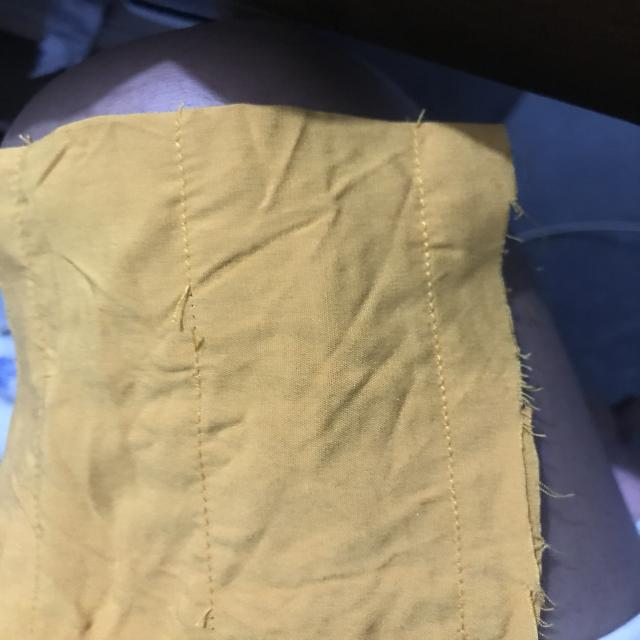broken: (163, 272, 226, 375)
good: (414, 306, 471, 418)
